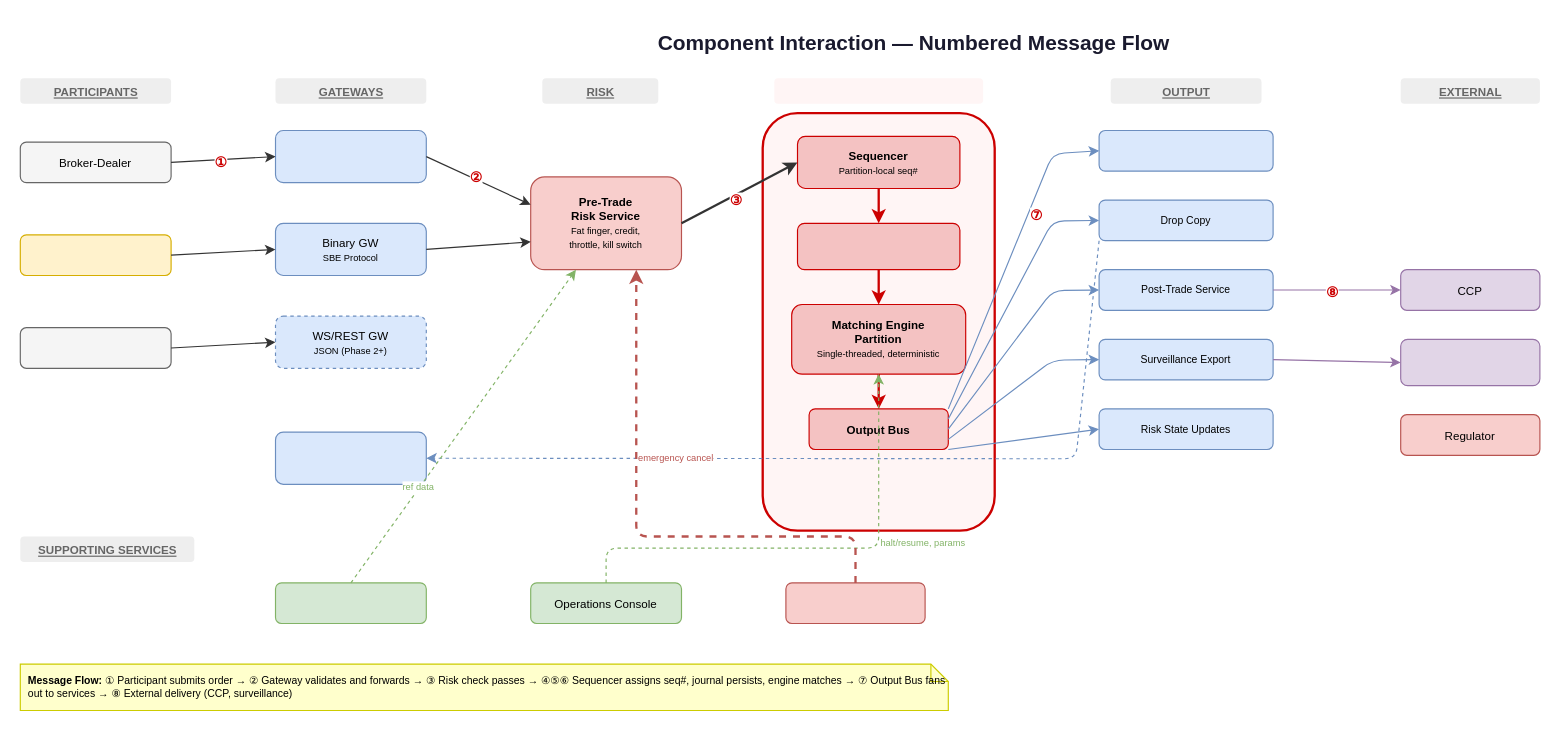
This 1560x731 diagram has some shape labels left out. The centre of each missing label's shape, as x and y in pixels:
CORE ENGINE: the point at 878,90
Drop Copy GW FIX read-only: the point at 350,457
FIX GW FIX 4.4/5.0: the point at 350,156
Journal / WAL NVMe, append-only: the point at 878,246
Kill Switch: the point at 855,603
Market Data Publisher: the point at 1185,150
Market Maker: the point at 95,255
Reference Data: the point at 350,603
Retail Intermediary: the point at 95,347
Surveillance System: the point at 1470,362
